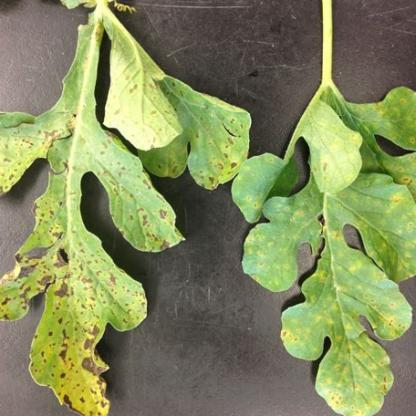black-spot: (53, 278, 90, 311)
